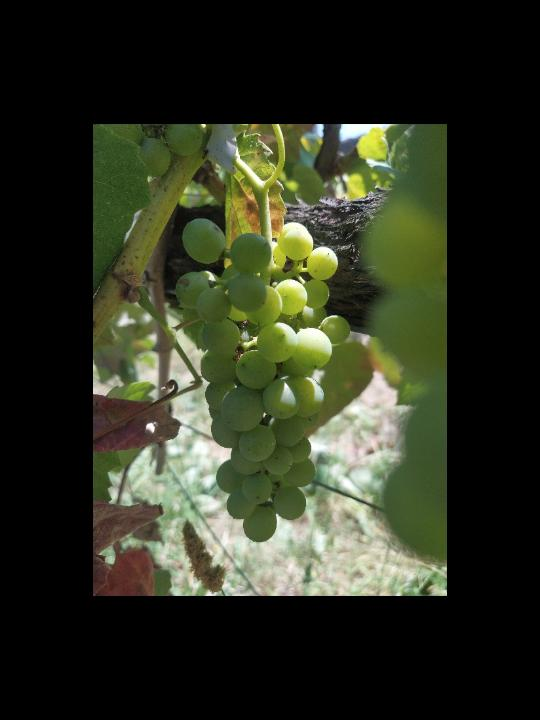grape: (173, 215, 352, 544)
